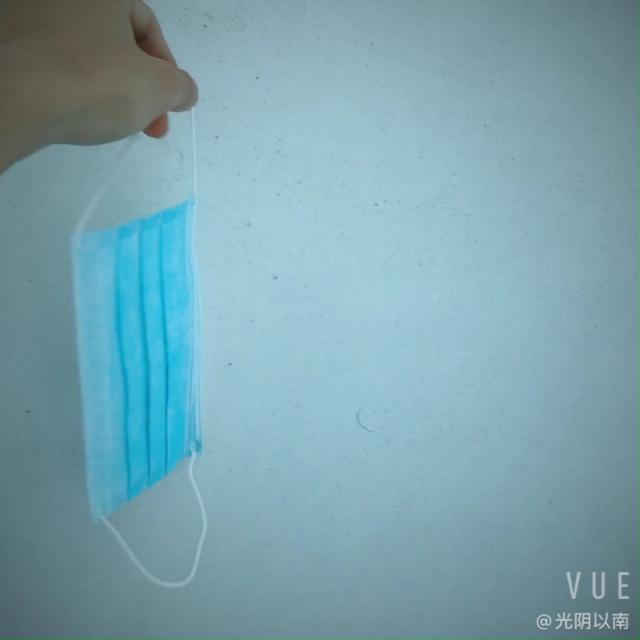face mask: (64, 190, 218, 516)
